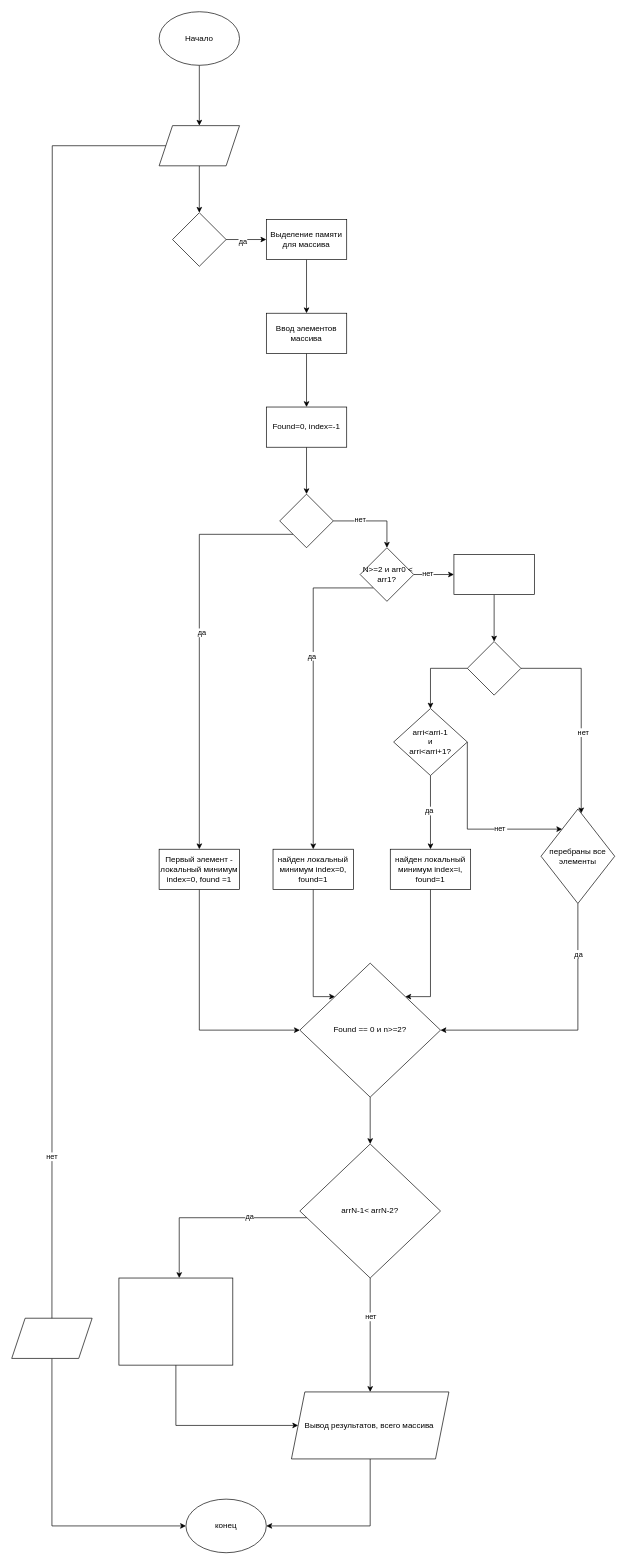
This 626x1564 diagram has some shape labels left out. The box of each missing label's shape, as (x1, y1, x2, y2) in pixels:
error: (11, 1318, 92, 1358)
i от 1 до N-2: (467, 641, 521, 695)
index=n-1, found=1: (118, 1277, 233, 1365)
n==1?: (279, 493, 333, 548)
N>0?: (172, 212, 226, 266)
Ввод N: (158, 125, 240, 166)
Поиск в середине массива: (453, 554, 534, 595)
